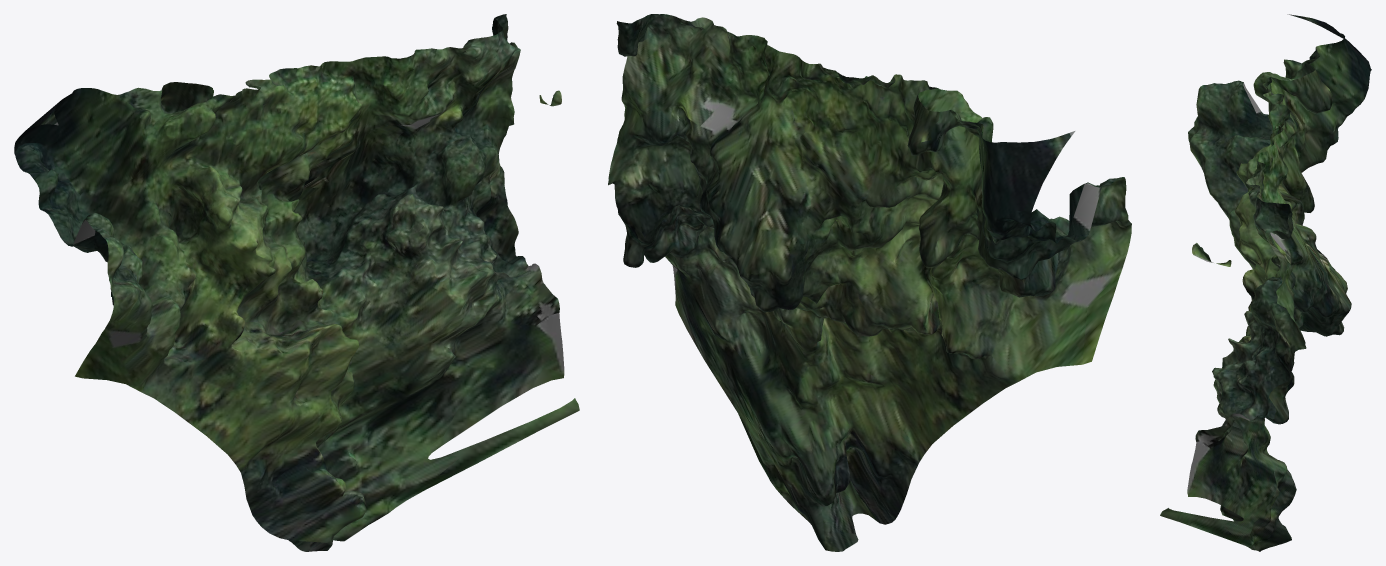
Rendered from Tile_+009_+002.fbx.
The picture shows the model from 3 angles, left to right: view 1: azimuth 30°, elevation 25°; view 2: azimuth 150°, elevation 25°; view 3: azimuth 270°, elevation 25°; orthographic projection. The views are drawn at different scales.
Parts seen in each view (by area): view 1: DefaultName; view 2: DefaultName; view 3: DefaultName.
Boxes of the visible parts, bbox=[...] form: DefaultName: bbox=[14, 14, 579, 551]; DefaultName: bbox=[608, 14, 1131, 551]; DefaultName: bbox=[1160, 14, 1371, 551].
Size of the model in its own units: 22.54 by 22.54 by 10.31.
